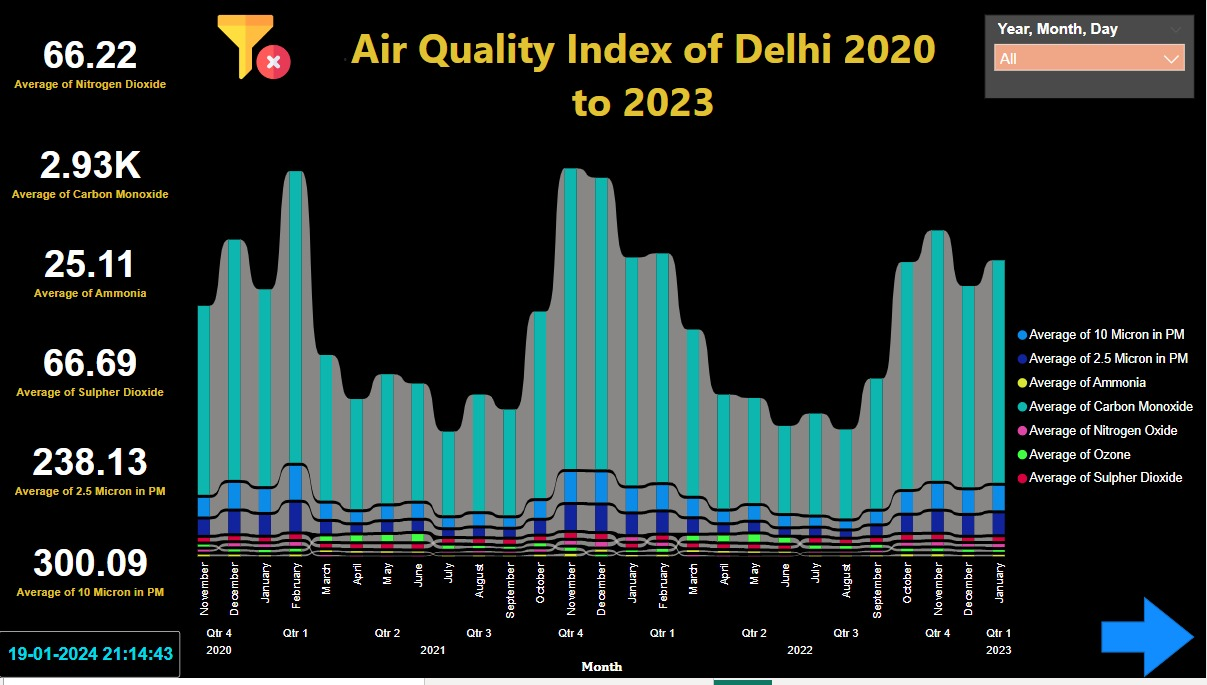

What the dashboard file says about the page in this screenshot:
{"tool":"powerbi","page":{"name":"Air Quality Indexof New Delhi From Nov 2020 to Jan 2023","canvas":[1280,720],"ordinal":0},"visuals":[{"type":"ribbonChart","title":"Air Quality Index of Delhi from Nov 2020 to Jan 2023","fields":{"Category":["Delhi_25-11-2020 to 24-01-2023.Date.Variation.Date Hierarchy.Year","Delhi_25-11-2020 to 24-01-2023.Date.Variation.Date Hierarchy.Quarter","Delhi_25-11-2020 to 24-01-2023.Date.Variation.Date Hierarchy.Month"],"Y":["Avg(Delhi_25-11-2020 to 24-01-2023.10 Micron Air Partcle)","Avg(Delhi_25-11-2020 to 24-01-2023.2.5 Micron Air Particles)","Avg(Delhi_25-11-2020 to 24-01-2023.Ammonia)","Avg(Delhi_25-11-2020 to 24-01-2023.Carbon Monoxide)","Avg(Delhi_25-11-2020 to 24-01-2023.Nitrogen Oxide)","Avg(Delhi_25-11-2020 to 24-01-2023.Ozone)","Avg(Delhi_25-11-2020 to 24-01-2023.Sulpher Dioxide)"]},"box":[192.5,144,1087.3,576],"z":0},{"type":"card","fields":{"Values":["Min(Date.Date)"]},"box":[0,670.7,192.3,49.3],"z":1000},{"type":"card","fields":{"Values":["Avg(Delhi_25-11-2020 to 24-01-2023.10 Micron Air Partcle)"]},"box":[0,549.9,192.8,105.8],"z":2000},{"type":"card","fields":{"Values":["Avg(Delhi_25-11-2020 to 24-01-2023.2.5 Micron in PPM)"]},"box":[0,443.4,192.3,104.9],"z":3000},{"type":"card","fields":{"Values":["Avg(Delhi_25-11-2020 to 24-01-2023.Sulpher Dioxide)"]},"box":[0,338.5,192.3,104.9],"z":4000},{"type":"card","fields":{"Values":["Avg(Delhi_25-11-2020 to 24-01-2023.Ammonia)"]},"box":[0,234.3,192.8,103.9],"z":5000},{"type":"card","fields":{"Values":["Avg(Delhi_25-11-2020 to 24-01-2023.Carbon Monoxide)"]},"box":[0,128.7,192.3,104.9],"z":6000},{"type":"slicer","fields":{"Values":["Delhi_25-11-2020 to 24-01-2023.Date.Variation.Date Hierarchy.Year","Delhi_25-11-2020 to 24-01-2023.Date.Variation.Date Hierarchy.Month","Delhi_25-11-2020 to 24-01-2023.Date.Variation.Date Hierarchy.Day"]},"box":[1044.2,17.5,222.5,89],"z":7000},{"type":"card","fields":{"Values":["Avg(Delhi_25-11-2020 to 24-01-2023.Nitrogen Dioxide)"]},"box":[0,0,192.3,128.7],"z":8000},{"type":"textbox","box":[325.8,17.5,696.2,127.2],"z":9000},{"type":"shape","box":[1168.2,634.2,98.5,85.8],"z":10000},{"type":"image","box":[225.7,7.9,89,87.4],"z":11000}]}

Visuals, with their boxes in screenshot pixels (x1, y1, x2, y2), scaled from the page's 1280x720 canvas onto the 1207x685 screenshot:
"Air Quality Index of Delhi from Nov 2020 to Jan 2023" ribbonChart: <box>182,137,1206,684</box>
card - Min(Date.Date): <box>0,638,181,684</box>
card - Avg(Delhi_25-11-2020 to 24-01-2023.10 Micron Air Partcle): <box>0,523,182,624</box>
card - Avg(Delhi_25-11-2020 to 24-01-2023.2.5 Micron in PPM): <box>0,422,181,522</box>
card - Avg(Delhi_25-11-2020 to 24-01-2023.Sulpher Dioxide): <box>0,322,181,422</box>
card - Avg(Delhi_25-11-2020 to 24-01-2023.Ammonia): <box>0,223,182,322</box>
card - Avg(Delhi_25-11-2020 to 24-01-2023.Carbon Monoxide): <box>0,122,181,222</box>
slicer - Delhi_25-11-2020 to 24-01-2023.Date.Variation.Date Hierarchy.Year x Delhi_25-11-2020 to 24-01-2023.Date.Variation.Date Hierarchy.Month: <box>985,17,1194,101</box>
card - Avg(Delhi_25-11-2020 to 24-01-2023.Nitrogen Dioxide): <box>0,0,181,122</box>
textbox: <box>307,17,964,138</box>
shape: <box>1102,603,1194,684</box>
image: <box>213,8,297,91</box>
